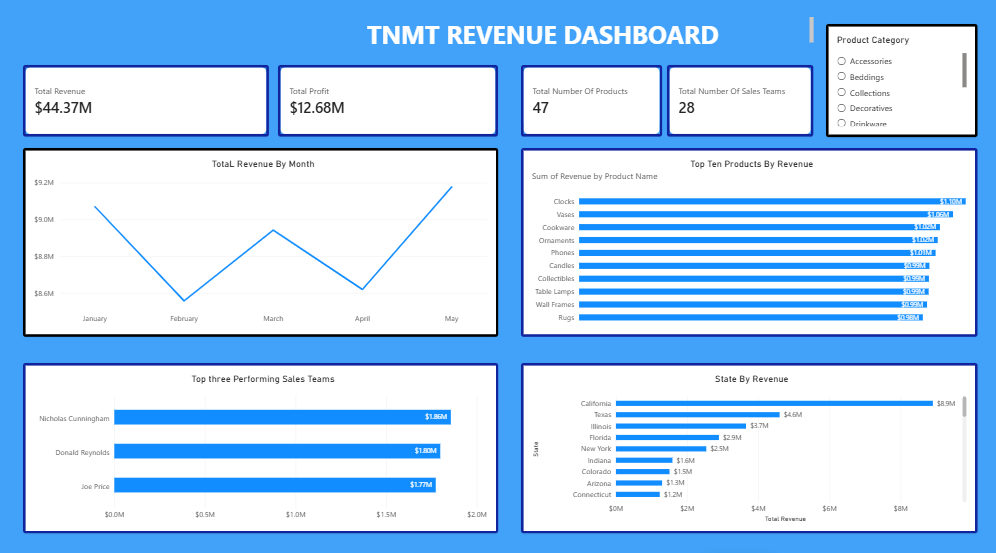

This screenshot's page, from the dashboard's own definition file:
{"tool":"powerbi","page":{"name":"Dashboard","canvas":[1920,1080],"ordinal":4},"visuals":[{"type":"cardVisual","fields":{"Data":["Sales table.Total Revenue"]},"box":[44,128,474,138],"z":0},{"type":"cardVisual","fields":{"Data":["Sales table.Total Profit"]},"box":[536,128,424,138],"z":1000},{"type":"cardVisual","fields":{"Data":["Sales table.Total Number Of Products"]},"box":[1004,128,272,138],"z":2000},{"type":"cardVisual","fields":{"Data":["Sales Team.Total Number Of Sales Teams"]},"box":[1286,128,282,138],"z":3000},{"type":"lineChart","title":"TotaL Revenue By Month","fields":{"Category":["Sales table.Sales Date.Variation.Date Hierarchy.Month"],"Y":["Sum(Sales table.Revenue)"]},"box":[44,288,916,364],"z":4000},{"type":"barChart","title":"Top Ten Products By Revenue","fields":{"Category":["Products.Product Name"],"Y":["Sum(Sales table.Revenue)"]},"box":[1004,288,880,364],"z":5000},{"type":"barChart","title":"Top three Performing Sales Teams","fields":{"Category":["Sales Team.Sales Team"],"Y":["Sum(Sales table.Revenue)"]},"box":[44,702,916,328],"z":6000},{"type":"barChart","title":"State By Revenue","fields":{"Category":["Store Locations.state"],"Y":["Sum(Sales table.Revenue)"]},"box":[1004,702,880,328],"z":7000},{"type":"textbox","box":[574,34,994,56],"z":8000},{"type":"listSlicer","fields":{"Values":["Products.Product Category"]},"box":[1592,48,292,218],"z":9000}]}

Visuals, with their boxes in screenshot pixels (x1, y1, x2, y2), scaled from the page's 1920x1080 canvas onto the 996x553 screenshot:
cardVisual - Sales table.Total Revenue: pyautogui.locateOnScreen(23, 66, 269, 136)
cardVisual - Sales table.Total Profit: pyautogui.locateOnScreen(278, 66, 498, 136)
cardVisual - Sales table.Total Number Of Products: pyautogui.locateOnScreen(521, 66, 662, 136)
cardVisual - Sales Team.Total Number Of Sales Teams: pyautogui.locateOnScreen(667, 66, 813, 136)
"TotaL Revenue By Month" lineChart: pyautogui.locateOnScreen(23, 147, 498, 334)
"Top Ten Products By Revenue" barChart: pyautogui.locateOnScreen(521, 147, 977, 334)
"Top three Performing Sales Teams" barChart: pyautogui.locateOnScreen(23, 359, 498, 527)
"State By Revenue" barChart: pyautogui.locateOnScreen(521, 359, 977, 527)
textbox: pyautogui.locateOnScreen(298, 17, 813, 46)
listSlicer - Products.Product Category: pyautogui.locateOnScreen(826, 25, 977, 136)
